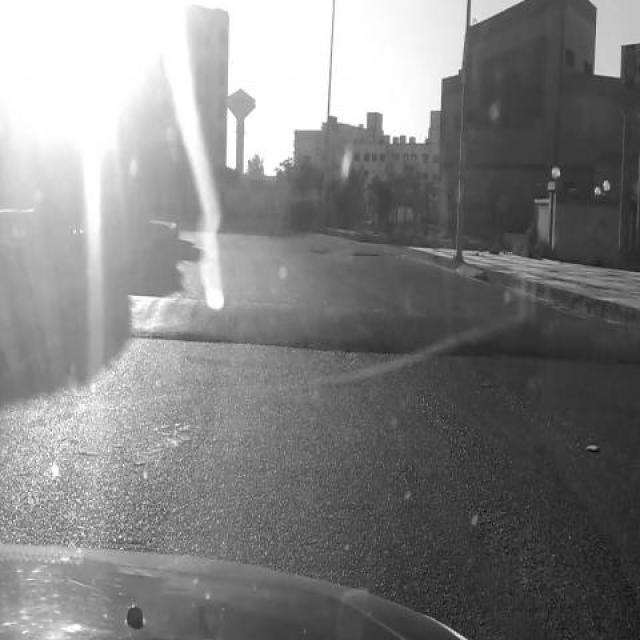Unmarked Bump: (125, 294, 640, 364)
